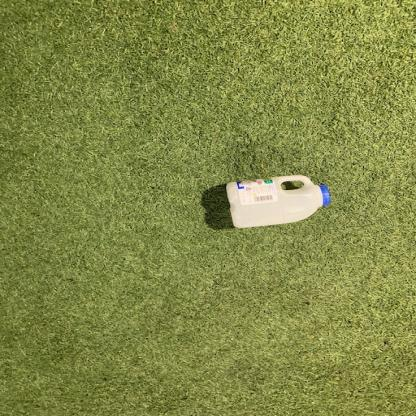trash: (225, 174, 332, 230)
